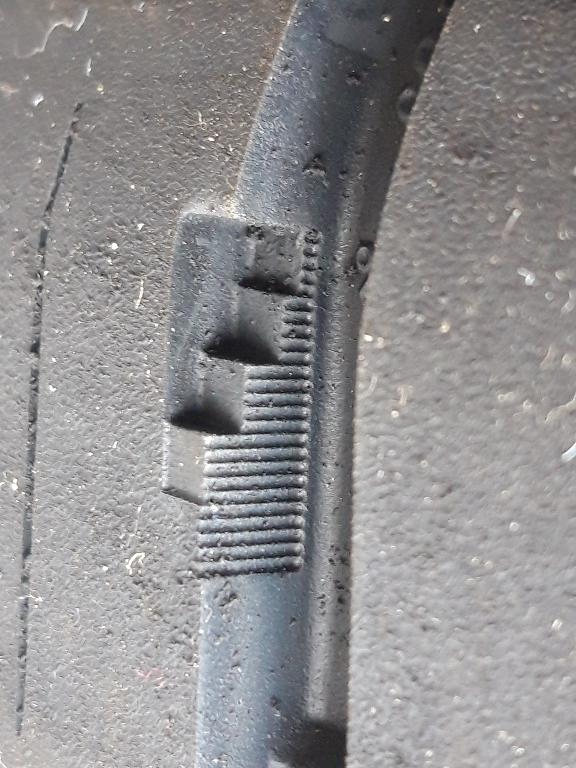temoin:75: (145, 189, 332, 521)
